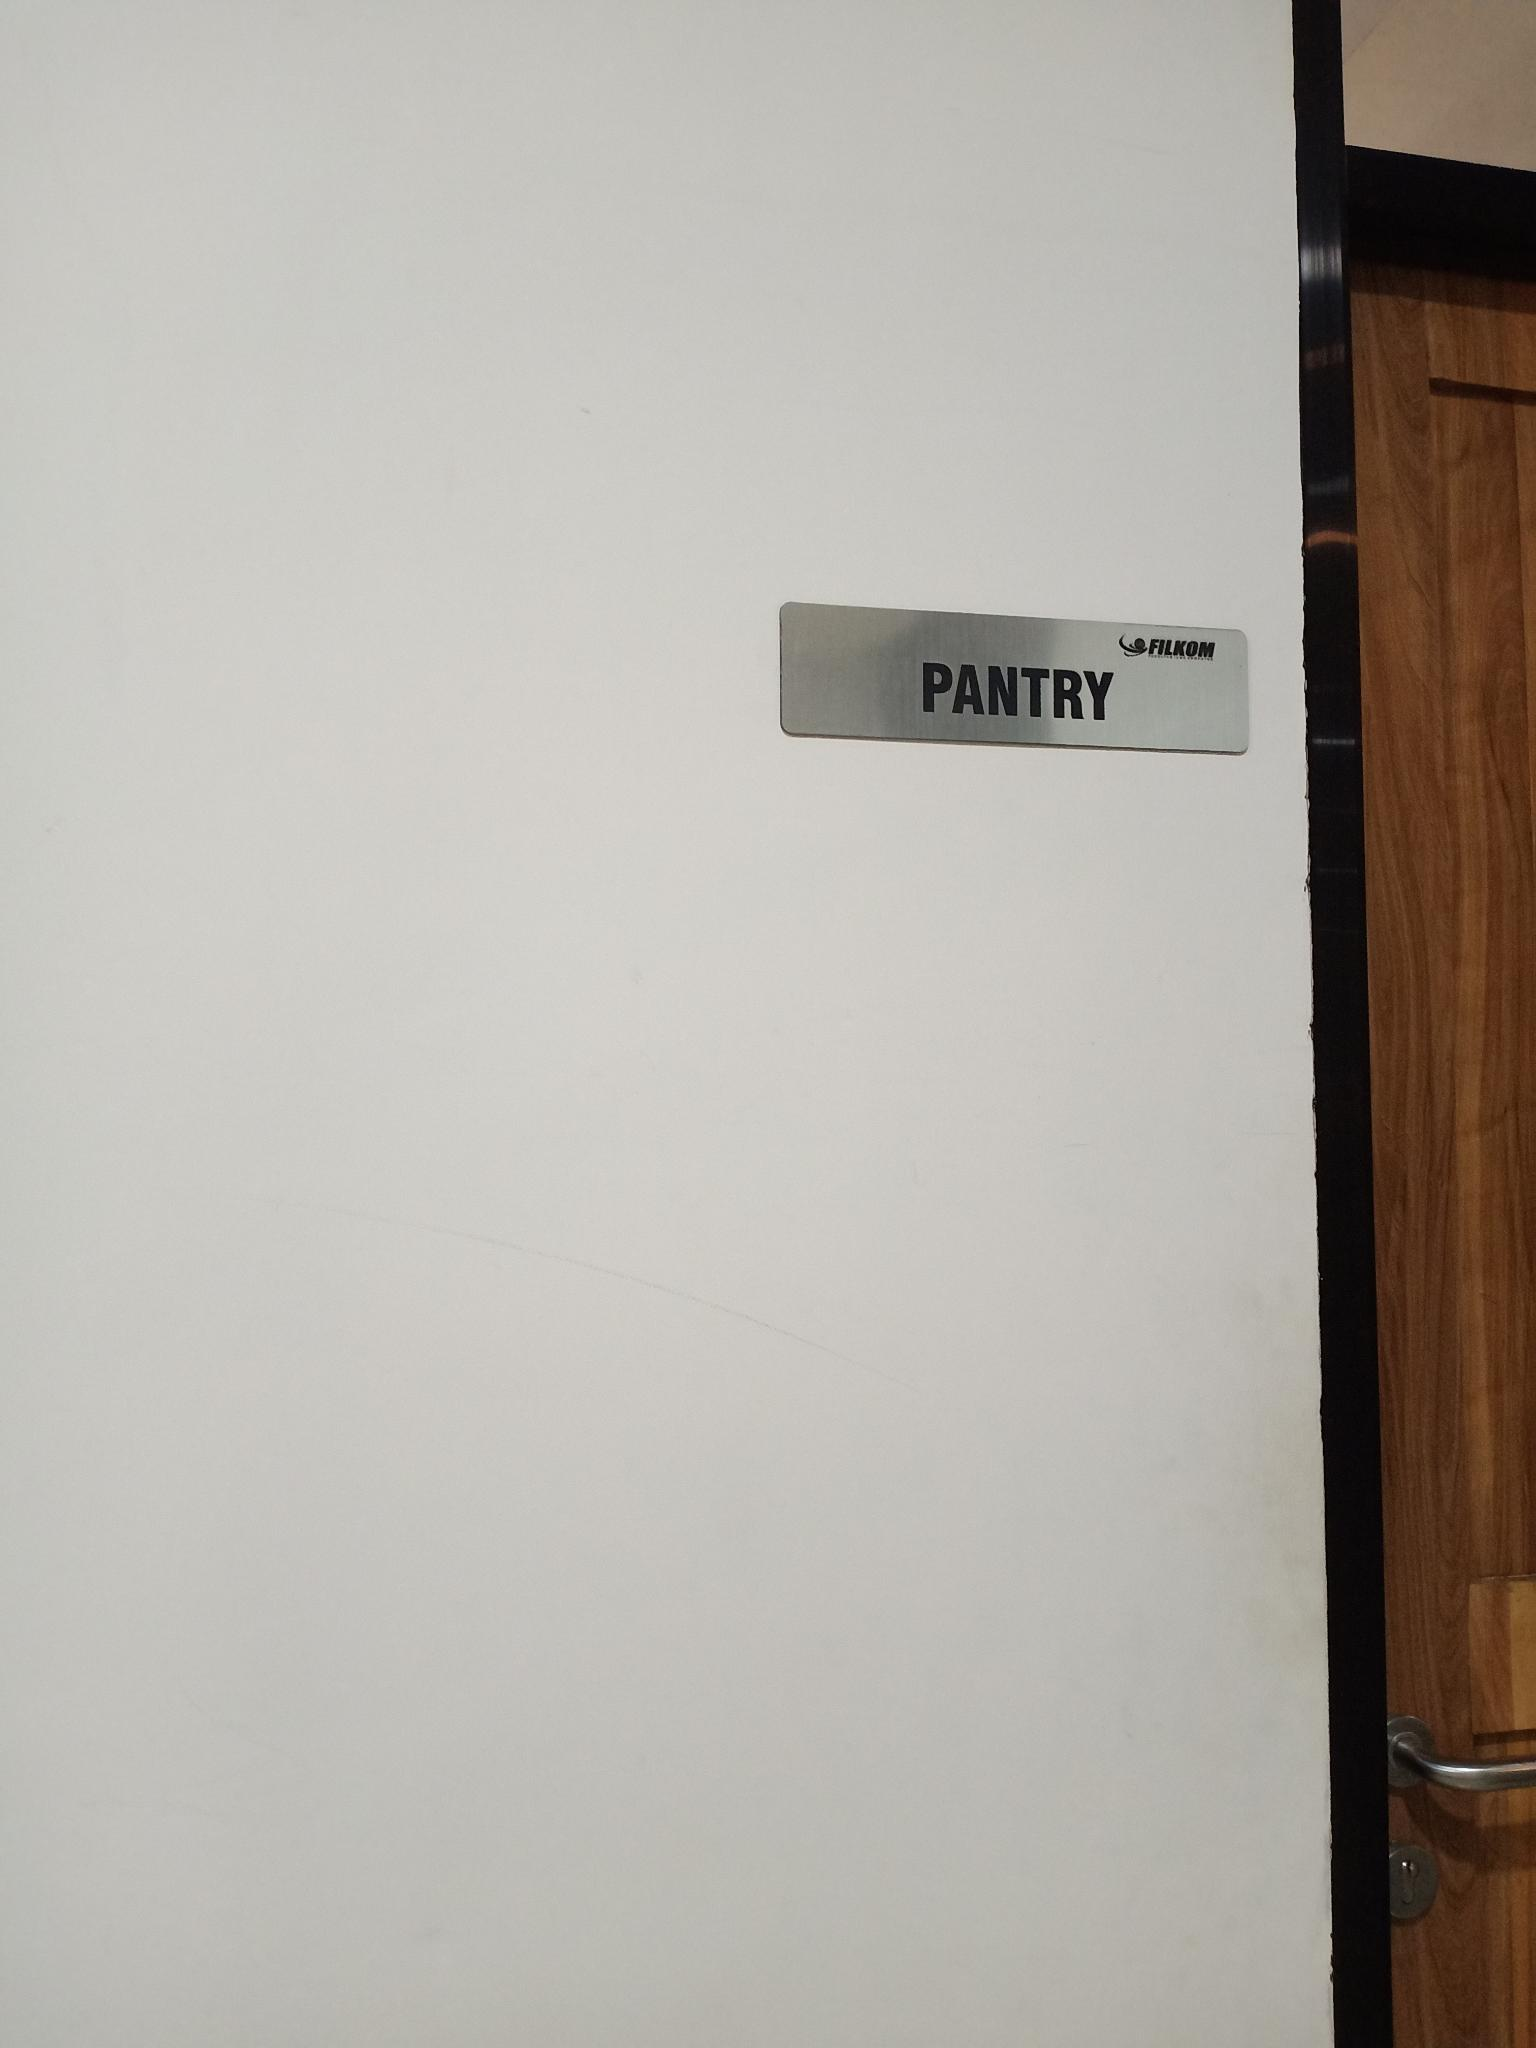plate: (778, 598, 1249, 755)
